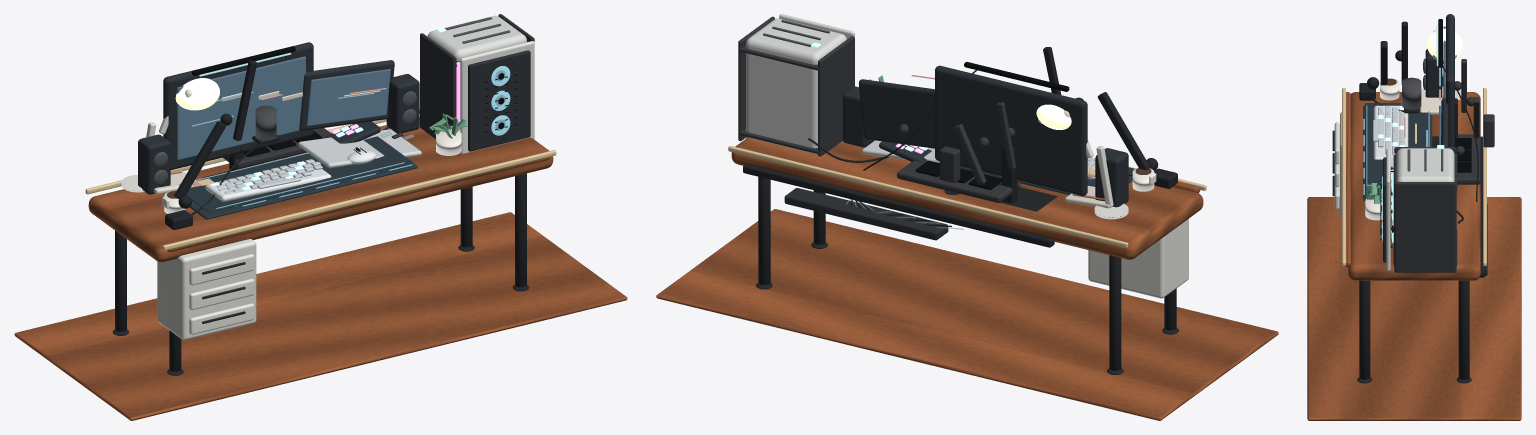
File: p2s_premium_workstation_hero_v3.glb
The picture shows the model from 3 angles, left to right: view 1: azimuth 30°, elevation 25°; view 2: azimuth 150°, elevation 25°; view 3: azimuth 270°, elevation 25°; orthographic projection. The views are drawn at different scales.
Parts seen in each view (by area): view 1: premium_workstation_v2_preview_floor_shadow_catcher, premium_workstation_oiled_oak_waterfall_top, premium_workstation_main_monitor_inner_screen, premium_workstation_left_lacquer_drawer_carcase, premium_workstation_v3_pc_front_deep_mesh_insert, premium_workstation_side_display_blue_screen, premium_workstation_v3_deskmat_top_charcoal_overlay, premium_workstation_main_monitor_outer_shell, premium_workstation_v2_pc_case_vertical_frame_0.94, premium_workstation_v2_oak_end_grain_band_0.51, premium_workstation_white_pc_case_body, premium_workstation_side_display_keyboard_deck (+21 smaller); view 2: premium_workstation_v2_preview_floor_shadow_catcher, premium_workstation_oiled_oak_waterfall_top, premium_workstation_main_monitor_outer_shell, premium_workstation_white_pc_case_body, premium_workstation_side_display_shell, premium_workstation_left_lacquer_drawer_carcase, premium_workstation_rear_black_cable_raceway, premium_workstation_v2_pc_case_vertical_frame_0.94, premium_workstation_v2_underdesk_mesh_cable_tray, premium_workstation_v2_oak_end_grain_band_-0.51, premium_workstation_v2_aluminum_monitor_riser_shelf, premium_workstation_tapered_black_steel_leg_-1.32_-0.36 (+11 smaller); view 3: premium_workstation_v2_preview_floor_shadow_catcher, premium_workstation_oiled_oak_waterfall_top, premium_workstation_v2_pc_case_vertical_frame_1.54, premium_workstation_white_pc_case_body, premium_workstation_v3_deskmat_top_charcoal_overlay, premium_workstation_tapered_black_steel_leg_1.32_-0.36, premium_workstation_tapered_black_steel_leg_1.32_0.36, premium_workstation_main_monitor_outer_shell, premium_workstation_oak_front_soft_bullnose, premium_workstation_low_profile_keyboard_body, premium_workstation_v2_oak_end_grain_band_0.51, premium_workstation_v2_aluminum_monitor_riser_shelf (+22 smaller).
Boxes of the visible parts, <box> form: premium_workstation_v2_preview_floor_shadow_catcher: <box>14,212,627,420</box>; premium_workstation_oiled_oak_waterfall_top: <box>88,117,553,262</box>; premium_workstation_main_monitor_inner_screen: <box>177,56,305,159</box>; premium_workstation_left_lacquer_drawer_carcase: <box>157,239,256,340</box>; premium_workstation_v3_pc_front_deep_mesh_insert: <box>468,50,530,151</box>; premium_workstation_side_display_blue_screen: <box>307,69,390,125</box>; premium_workstation_v3_deskmat_top_charcoal_overlay: <box>186,136,412,212</box>; premium_workstation_main_monitor_outer_shell: <box>163,42,313,169</box>; premium_workstation_v2_pc_case_vertical_frame_0.94: <box>420,33,456,138</box>; premium_workstation_v2_oak_end_grain_band_0.51: <box>162,150,556,250</box>; premium_workstation_white_pc_case_body: <box>427,15,526,61</box>; premium_workstation_side_display_keyboard_deck: <box>298,129,421,168</box>; premium_workstation_v2_preview_floor_shadow_catcher: <box>656,209,1278,420</box>; premium_workstation_oiled_oak_waterfall_top: <box>731,138,1203,259</box>; premium_workstation_main_monitor_outer_shell: <box>935,65,1087,195</box>; premium_workstation_white_pc_case_body: <box>746,18,846,153</box>; premium_workstation_side_display_shell: <box>858,79,934,148</box>; premium_workstation_left_lacquer_drawer_carcase: <box>1088,218,1188,298</box>; premium_workstation_rear_black_cable_raceway: <box>743,164,1054,247</box>; premium_workstation_v2_pc_case_vertical_frame_0.94: <box>818,36,854,156</box>; premium_workstation_v2_underdesk_mesh_cable_tray: <box>784,188,948,240</box>; premium_workstation_v2_oak_end_grain_band_-0.51: <box>728,146,1128,247</box>; premium_workstation_v2_aluminum_monitor_riser_shelf: <box>897,160,1020,202</box>; premium_workstation_tapered_black_steel_leg_-1.32_-0.36: <box>1109,255,1121,370</box>; premium_workstation_v2_preview_floor_shadow_catcher: <box>1307,197,1521,420</box>; premium_workstation_oiled_oak_waterfall_top: <box>1348,92,1480,280</box>; premium_workstation_v2_pc_case_vertical_frame_1.54: <box>1394,182,1456,272</box>; premium_workstation_white_pc_case_body: <box>1396,148,1454,181</box>; premium_workstation_v3_deskmat_top_charcoal_overlay: <box>1365,103,1430,194</box>; premium_workstation_tapered_black_steel_leg_1.32_-0.36: <box>1458,280,1469,379</box>; premium_workstation_tapered_black_steel_leg_1.32_0.36: <box>1359,280,1370,379</box>; premium_workstation_main_monitor_outer_shell: <box>1446,14,1454,146</box>; premium_workstation_oak_front_soft_bullnose: <box>1344,92,1350,266</box>; premium_workstation_low_profile_keyboard_body: <box>1373,105,1408,159</box>; premium_workstation_v2_oak_end_grain_band_0.51: <box>1342,88,1345,266</box>; premium_workstation_v2_aluminum_monitor_riser_shelf: <box>1457,134,1480,184</box>.
Bounding box in the file's own units: 3.8 × 2.04 × 1.55.
39 materials, 2 textured.
